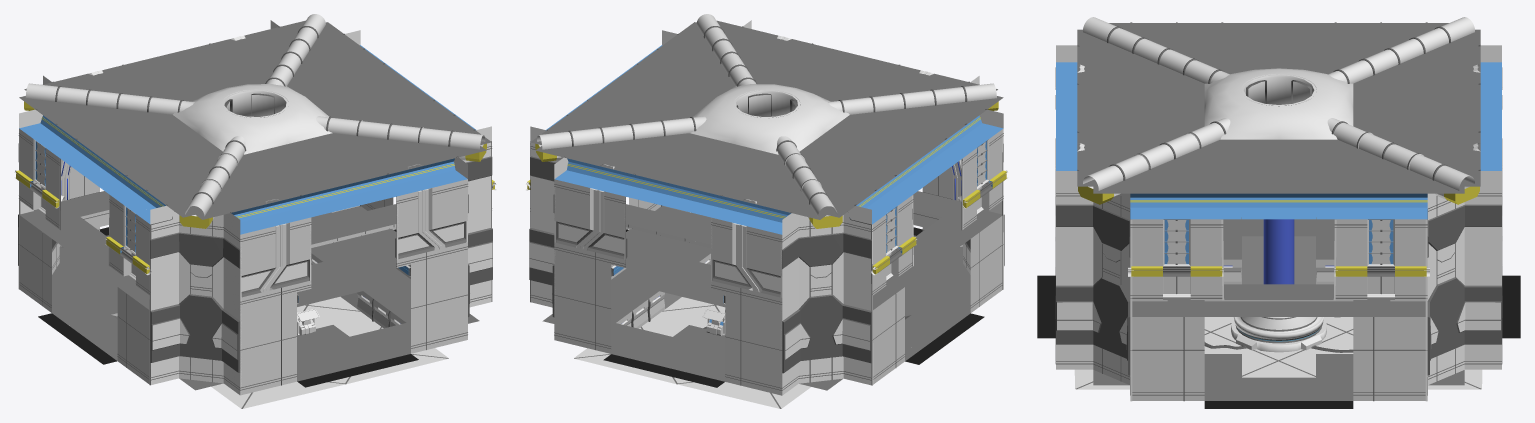
Rendered from MainRoom.fbx.
The picture shows the model from 3 angles, left to right: view 1: azimuth 30°, elevation 25°; view 2: azimuth 150°, elevation 25°; view 3: azimuth 270°, elevation 25°; orthographic projection. The views are drawn at different scales.
Parts seen in each view (by area): view 1: Main_Ceiling, Main_Main, Main_Walls, Main_FloorCeiling, Main_Pipes, Main_CeilingCenter, Main_FloorCenter, Main_Console1, Main_Wires, Main_Center, Main_LowerWalls, Main_Console2; view 2: Main_Ceiling, Main_Main, Main_Walls, Main_FloorCeiling, Main_Pipes, Main_CeilingCenter, Main_FloorCenter, Main_Console1, Main_Wires, Main_Center, Main_LowerWalls, Main_Console2; view 3: Main_Ceiling, Main_Main, Main_Walls, Main_FloorCeiling, Main_Pipes, Main_CeilingCenter, Main_Console1, Main_FloorCenter, Main_Center, Main_Experiment, Main_LowerWalls, Main_LedgeWall.
Boxes of the visible parts, x1,y1,x2,y2 form: Main_Ceiling: (19,20,491,219); Main_Main: (18,20,492,395); Main_Walls: (18,128,492,395); Main_FloorCeiling: (20,191,479,390); Main_Pipes: (25,14,485,216); Main_CeilingCenter: (173,84,332,154); Main_FloorCenter: (211,296,448,408); Main_Console1: (14,139,496,279); Main_Wires: (60,35,446,292); Main_Center: (222,89,299,320); Main_LowerWalls: (111,253,406,328); Main_Console2: (297,308,319,335); Main_Ceiling: (530,20,1003,219); Main_Main: (529,20,1004,395); Main_Walls: (554,128,1003,395); Main_FloorCeiling: (542,191,1002,390); Main_Pipes: (537,14,996,216); Main_CeilingCenter: (690,84,849,154); Main_FloorCenter: (574,297,810,408); Main_Console1: (526,139,1008,280); Main_Wires: (576,35,962,292); Main_Center: (722,90,800,321); Main_LowerWalls: (616,253,910,328); Main_Console2: (702,309,725,335); Main_Ceiling: (1077,23,1480,193); Main_Main: (1055,22,1502,401); Main_Walls: (1055,67,1502,401); Main_FloorCeiling: (1037,217,1520,408); Main_Pipes: (1083,17,1474,190); Main_CeilingCenter: (1204,68,1353,139); Main_Console1: (1128,219,1429,297); Main_FloorCenter: (1074,317,1482,389); Main_Center: (1231,74,1326,352); Main_Experiment: (1263,219,1294,284); Main_LowerWalls: (1223,259,1334,284); Main_LedgeWall: (1132,300,1425,301).
Size of the model in its own units: 26 by 14.38 by 26.
